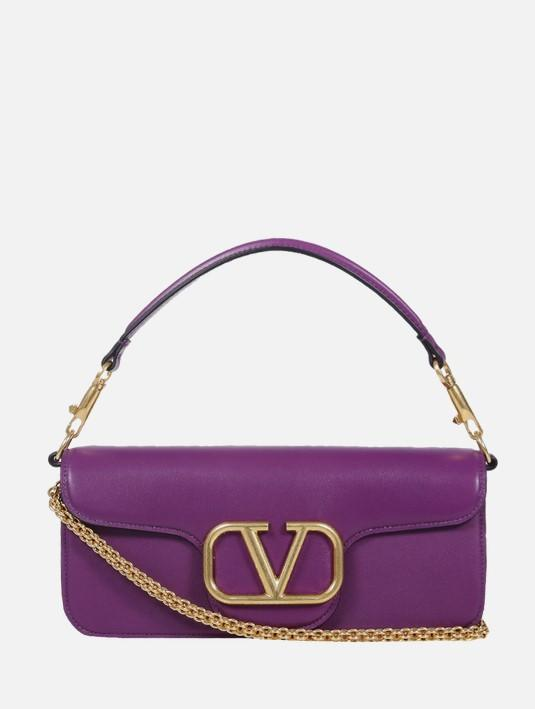VALENTINO: (204, 520, 344, 604)
